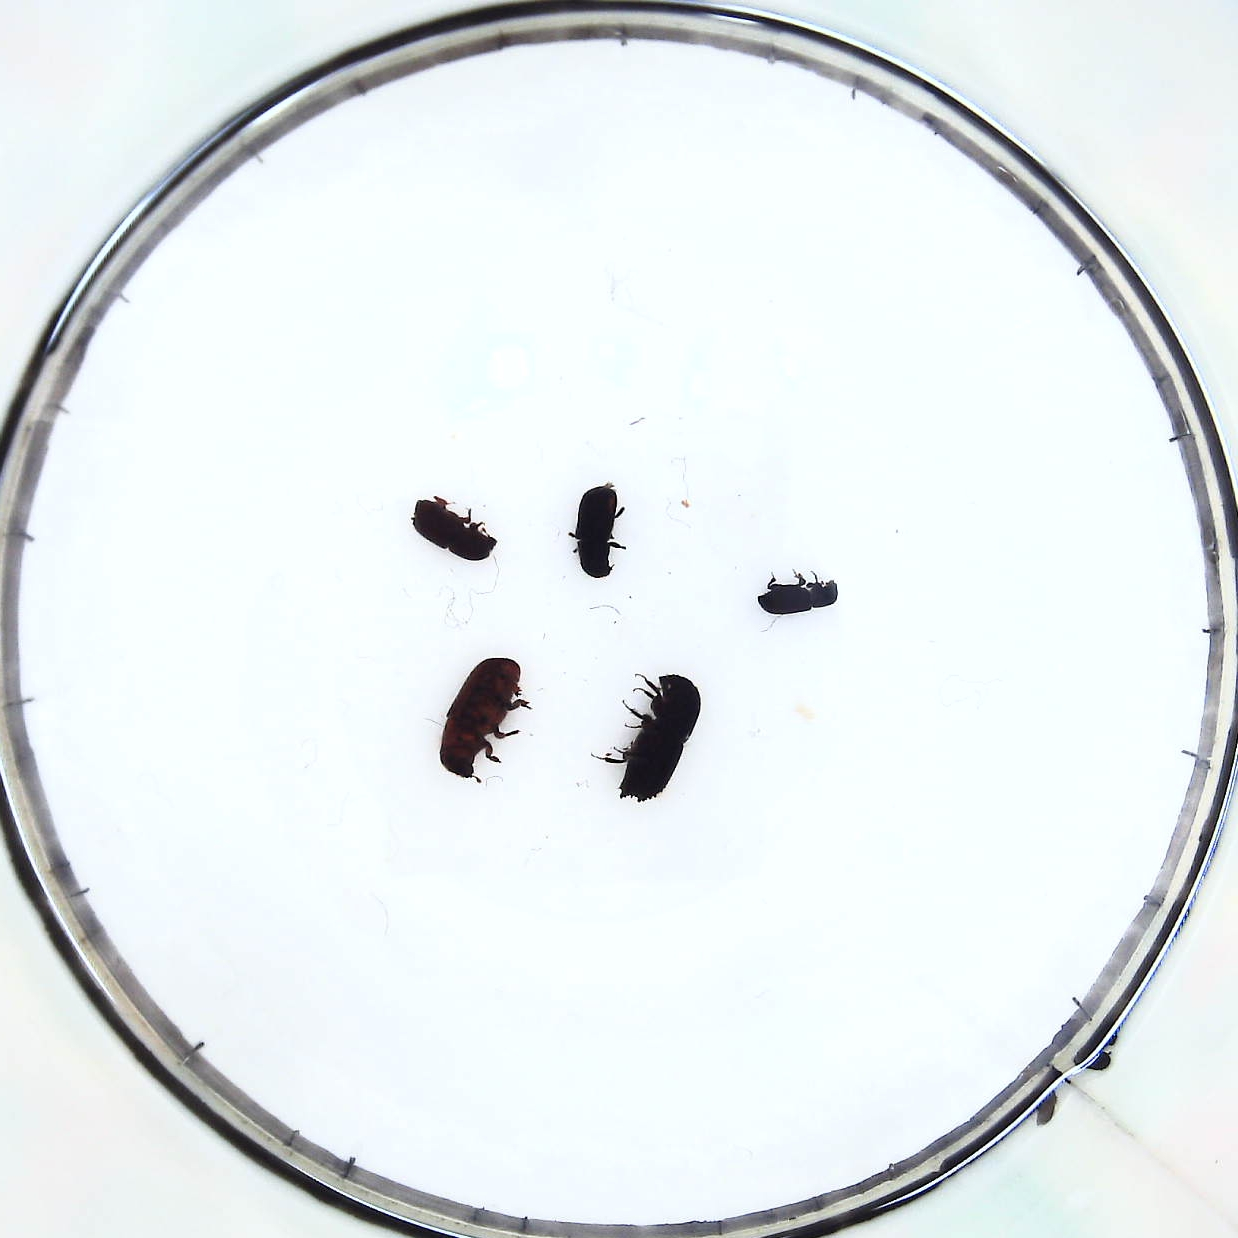Boerner: (612, 670, 697, 803)
Leconte: (446, 658, 524, 785)
Linnaeus: (409, 491, 497, 560)
armandi: (573, 482, 626, 578)
coleoptera: (757, 570, 841, 614)
